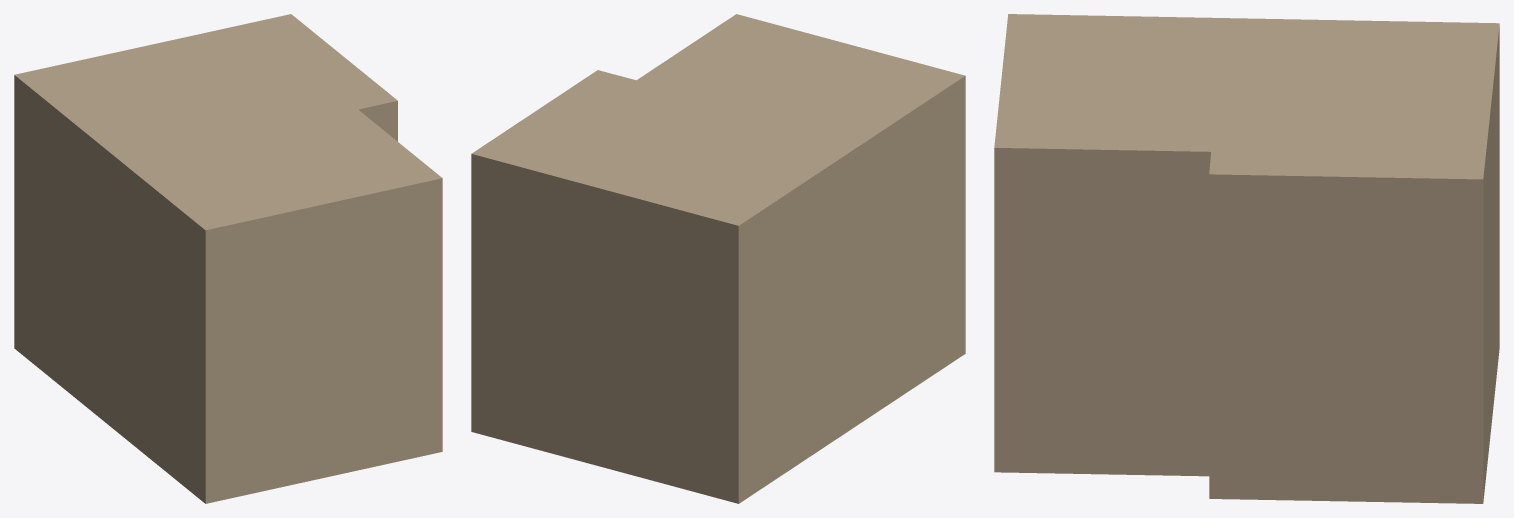
File: bld_106796645.dae
The picture shows the model from 3 angles, left to right: view 1: azimuth 30°, elevation 25°; view 2: azimuth 150°, elevation 25°; view 3: azimuth 270°, elevation 25°; orthographic projection. The views are drawn at different scales.
Visible parts, largest first — view 1: bld_106796645; view 2: bld_106796645; view 3: bld_106796645.
Part boxes in pixels (x1,y1,x2,y2): bld_106796645: [14, 14, 442, 503]; bld_106796645: [471, 14, 965, 503]; bld_106796645: [994, 14, 1499, 503].
Bounding box in the file's own units: 8.75 × 11.29 × 8.
